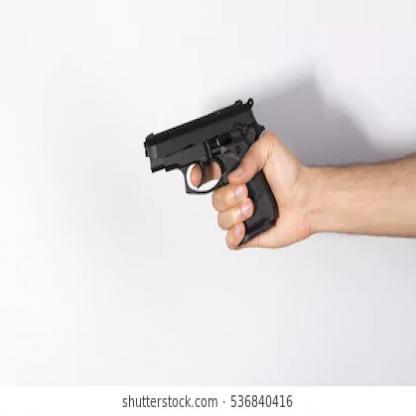gun: (137, 106, 284, 237)
